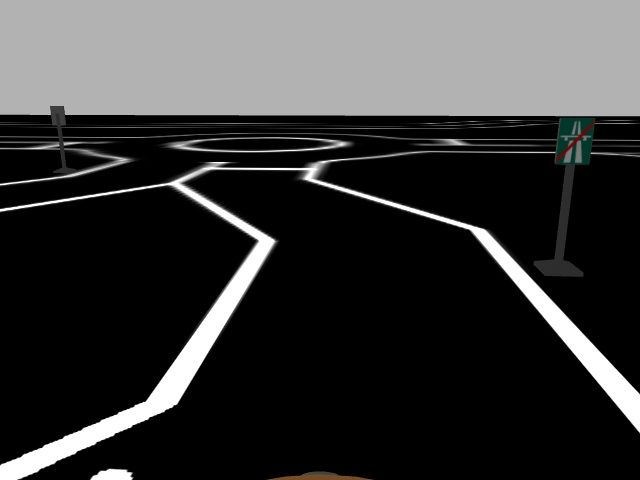leave_highway: (552, 115, 598, 168)
